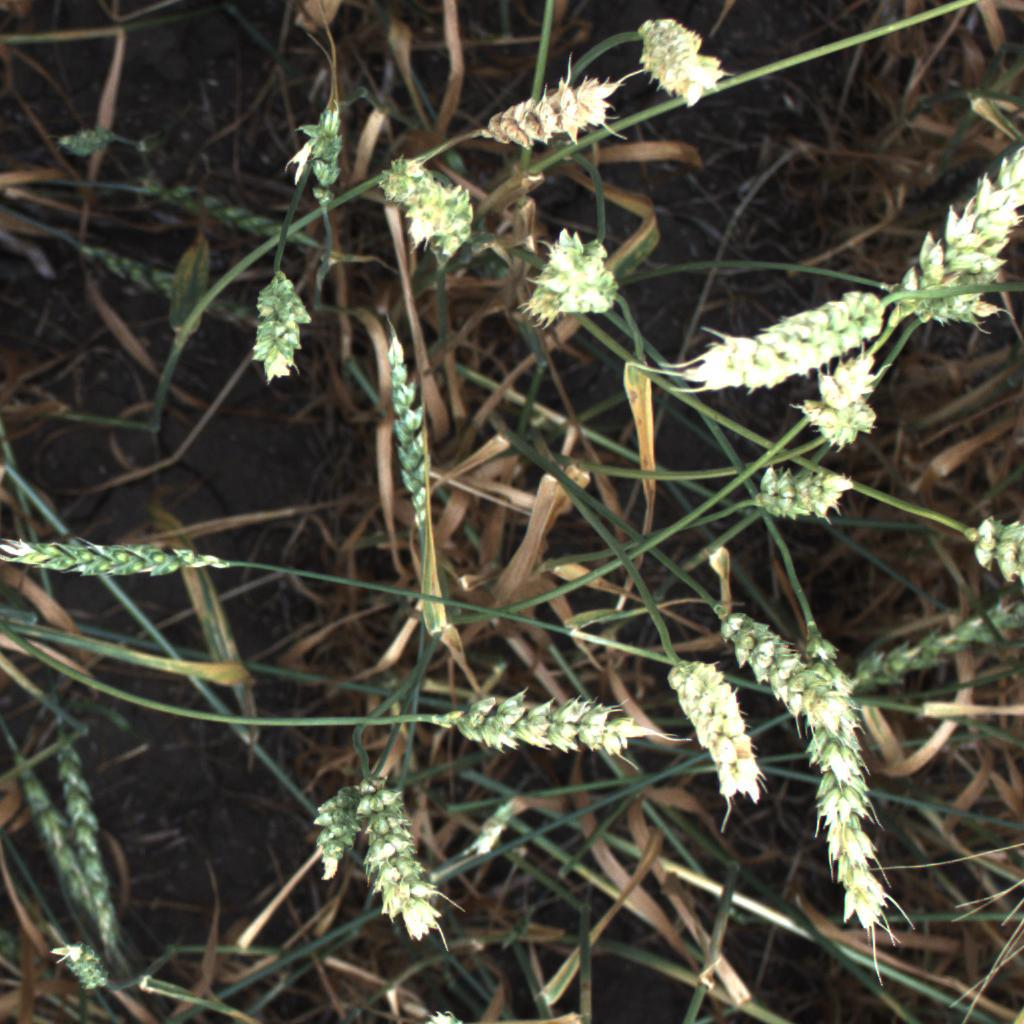0-0: (786, 611, 913, 939), (681, 283, 906, 407), (705, 596, 870, 756), (887, 136, 1024, 318), (418, 681, 663, 760), (347, 764, 451, 950), (371, 312, 444, 557), (0, 521, 245, 591), (663, 653, 770, 813), (471, 67, 628, 163), (377, 151, 483, 267), (515, 228, 622, 339), (734, 451, 871, 530), (235, 262, 315, 396), (635, 5, 731, 114), (804, 334, 890, 455), (272, 100, 350, 225), (306, 770, 383, 884), (41, 932, 126, 1003), (963, 504, 1024, 592)
